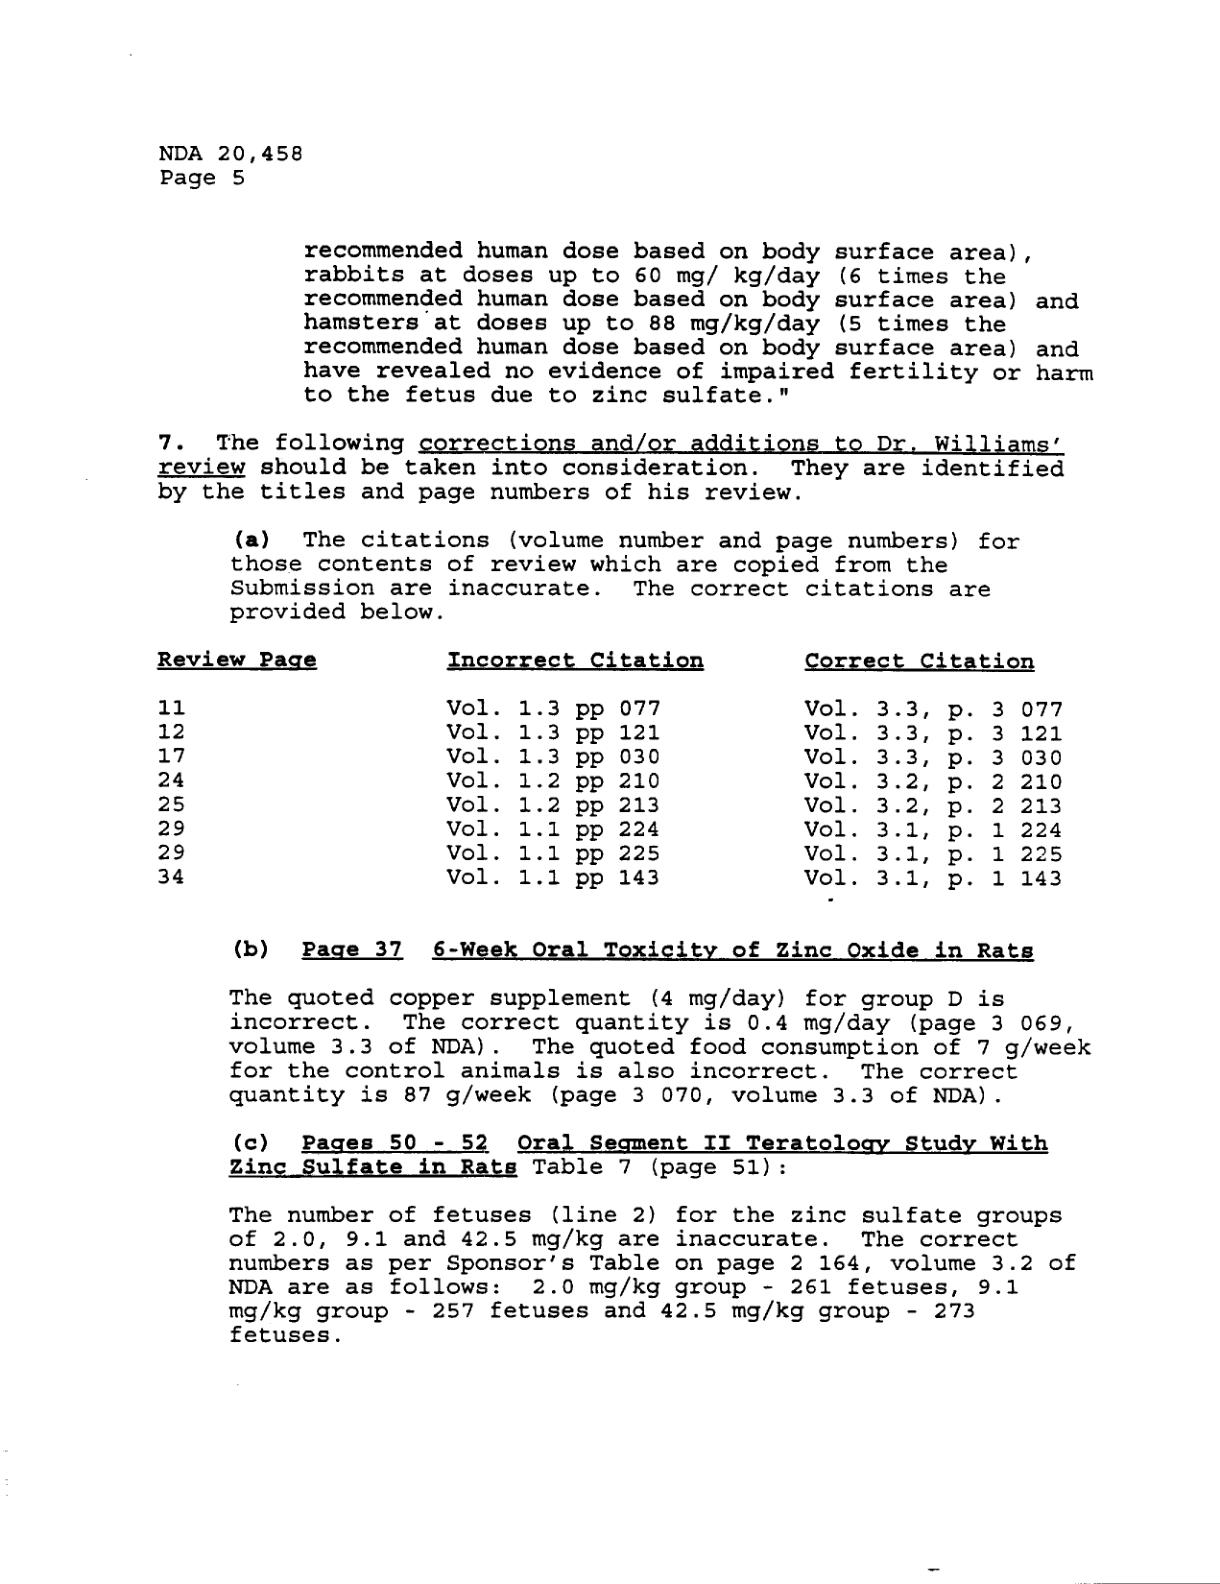nolines: (154, 648, 1062, 895)
